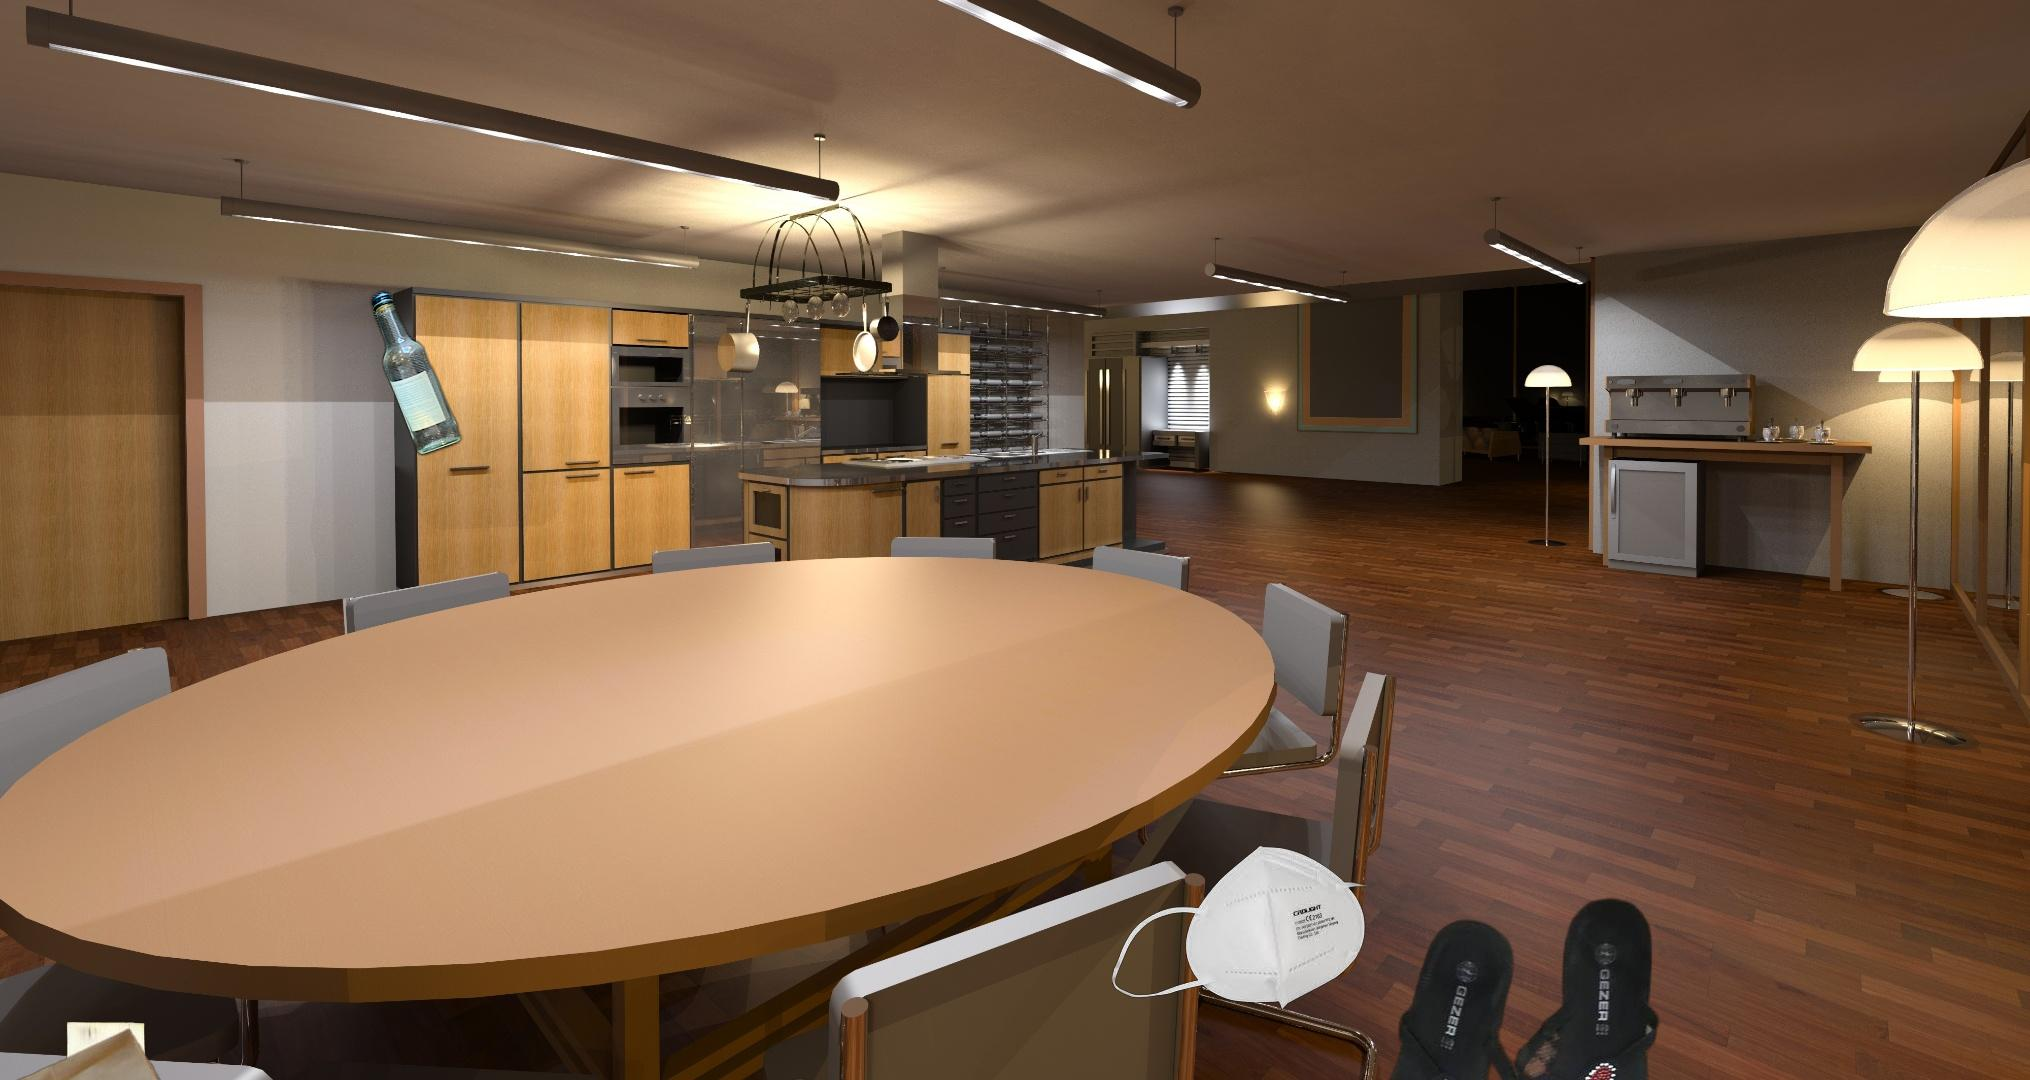glass: (367, 283, 467, 461)
metal-cans: (1712, 908, 1988, 1080)
paper-bag: (3, 1021, 171, 1080)
plastic-bottles: (477, 760, 836, 1080)
shoes: (1369, 895, 1663, 1080)
trash: (1112, 846, 1419, 1010)
